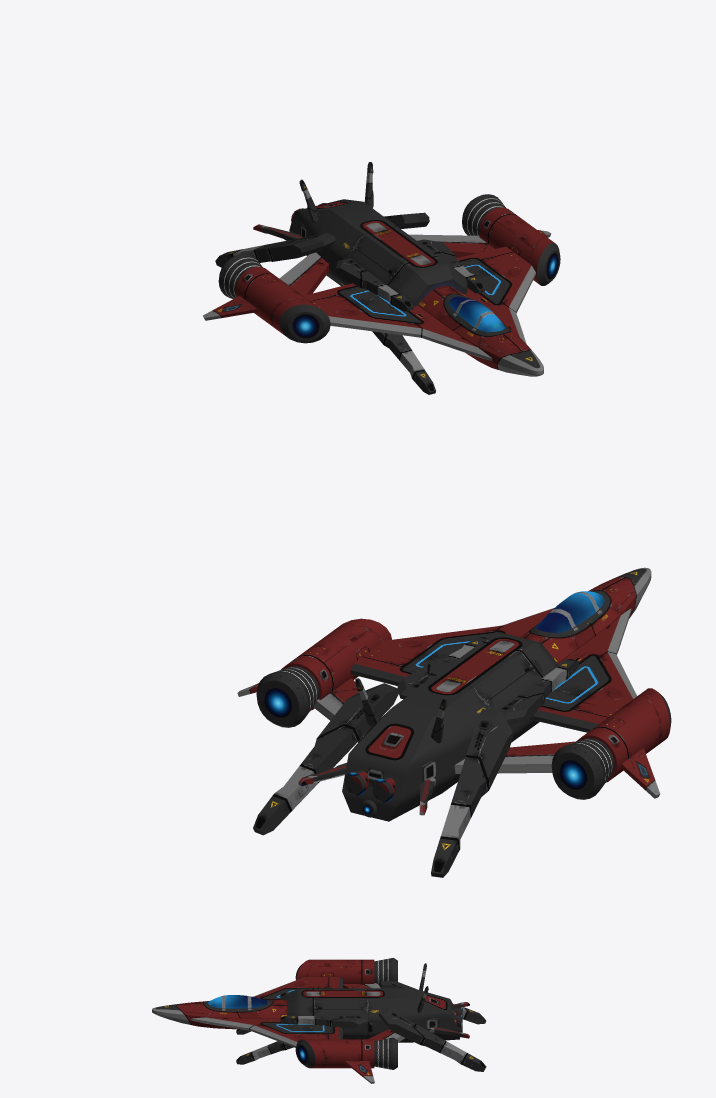
File: Spaceship2.glb
3 renders of one model, top to bottom at view 1: azimuth 30°, elevation 25°; view 2: azimuth 150°, elevation 25°; view 3: azimuth 270°, elevation 25°, orthographic. The views are drawn at different scales.
Visible parts, largest first — view 1: StarSparrow_Plasma.002_5, StarSparrow_Wing.002_11, StarSparrow_Core_New_6, StarSparrow_Engine.002_7, StarSparrow_Wing.001_10, StarSparrow_Engine.003_12, StarSparrow_Weapon.002_26, StarSparrow_Weapon.001_27, StarSparrow_Fin.004_31, StarSparrow_Weapon.008_25, StarSparrow_Thruster.005_8, StarSparrow_Fin.002_29 (+3 smaller); view 2: StarSparrow_Plasma.002_5, StarSparrow_Wing.002_11, StarSparrow_Core_New_6, StarSparrow_Weapon.011_20, StarSparrow_Weapon.002_26, StarSparrow_Wing.001_10, StarSparrow_Engine.002_7, StarSparrow_Engine.003_12, StarSparrow_Thruster.005_8, StarSparrow_Thruster.007_14, StarSparrow_Weapon.001_27, StarSparrow_Fin.004_31 (+3 smaller); view 3: StarSparrow_Plasma.002_5, StarSparrow_Core_New_6, StarSparrow_Wing.001_10, StarSparrow_Engine.003_12, StarSparrow_Weapon.011_20, StarSparrow_Engine.002_7, StarSparrow_Wing.002_11, StarSparrow_Weapon.006_21, StarSparrow_Thruster.007_14, StarSparrow_Thruster.005_8, StarSparrow_Weapon.004_23, StarSparrow_Weapon.002_26 (+1 smaller).
Part boxes in pixels (x1,y1,x2,y2): StarSparrow_Plasma.002_5: [289, 199, 467, 306]; StarSparrow_Wing.002_11: [303, 283, 492, 360]; StarSparrow_Core_New_6: [418, 285, 543, 376]; StarSparrow_Engine.002_7: [235, 266, 330, 343]; StarSparrow_Wing.001_10: [456, 246, 535, 343]; StarSparrow_Engine.003_12: [478, 207, 560, 285]; StarSparrow_Weapon.002_26: [215, 233, 335, 267]; StarSparrow_Weapon.001_27: [335, 258, 413, 311]; StarSparrow_Fin.004_31: [279, 252, 328, 295]; StarSparrow_Weapon.008_25: [372, 331, 435, 394]; StarSparrow_Thruster.005_8: [218, 253, 262, 298]; StarSparrow_Fin.002_29: [409, 234, 494, 257]; StarSparrow_Plasma.002_5: [342, 632, 557, 821]; StarSparrow_Wing.002_11: [529, 608, 636, 732]; StarSparrow_Core_New_6: [520, 567, 651, 663]; StarSparrow_Weapon.011_20: [253, 683, 399, 835]; StarSparrow_Weapon.002_26: [431, 709, 513, 877]; StarSparrow_Wing.001_10: [350, 608, 553, 685]; StarSparrow_Engine.002_7: [576, 688, 671, 782]; StarSparrow_Engine.003_12: [281, 618, 391, 710]; StarSparrow_Thruster.005_8: [551, 738, 614, 799]; StarSparrow_Thruster.007_14: [256, 666, 319, 727]; StarSparrow_Weapon.001_27: [498, 659, 578, 723]; StarSparrow_Fin.004_31: [454, 741, 575, 773]; StarSparrow_Plasma.002_5: [287, 988, 459, 1042]; StarSparrow_Core_New_6: [152, 995, 286, 1029]; StarSparrow_Wing.001_10: [191, 1017, 344, 1047]; StarSparrow_Engine.003_12: [295, 1039, 374, 1068]; StarSparrow_Weapon.011_20: [378, 1008, 486, 1071]; StarSparrow_Engine.002_7: [295, 959, 374, 983]; StarSparrow_Wing.002_11: [253, 977, 343, 1000]; StarSparrow_Weapon.006_21: [280, 1015, 368, 1028]; StarSparrow_Thruster.007_14: [374, 1037, 397, 1069]; StarSparrow_Thruster.005_8: [374, 958, 397, 983]; StarSparrow_Weapon.004_23: [236, 1041, 293, 1064]; StarSparrow_Weapon.002_26: [378, 981, 486, 1024].
Size of the model in its own units: 6.2 by 1.87 by 15.86.
1 material, 1 textured.
